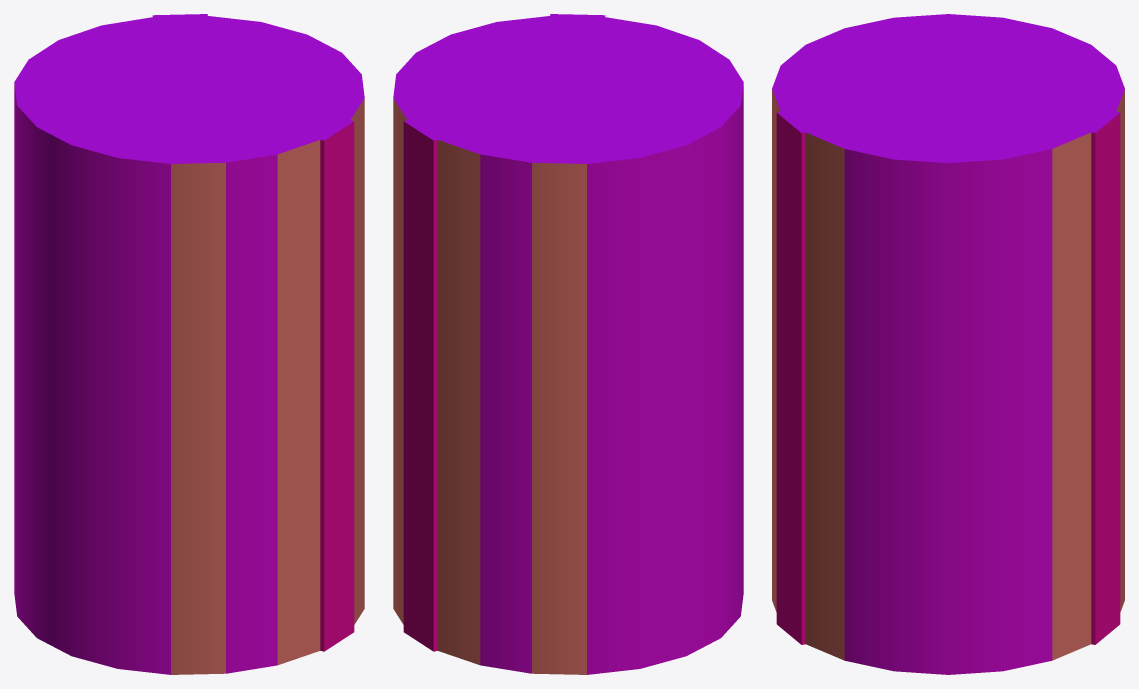
File: br-m-tube-purple.fbx
The picture shows the model from 3 angles, left to right: view 1: azimuth 30°, elevation 25°; view 2: azimuth 150°, elevation 25°; view 3: azimuth 270°, elevation 25°; orthographic projection.
Parts seen in each view (by area): view 1: tube_purple4; view 2: tube_purple4; view 3: tube_purple4.
Boxes of the visible parts, x1,y1,x2,y2 form: tube_purple4: (14, 14, 364, 674); tube_purple4: (393, 14, 743, 674); tube_purple4: (772, 14, 1124, 674).
Size of the model in its own units: 0.625 by 1 by 0.625.
